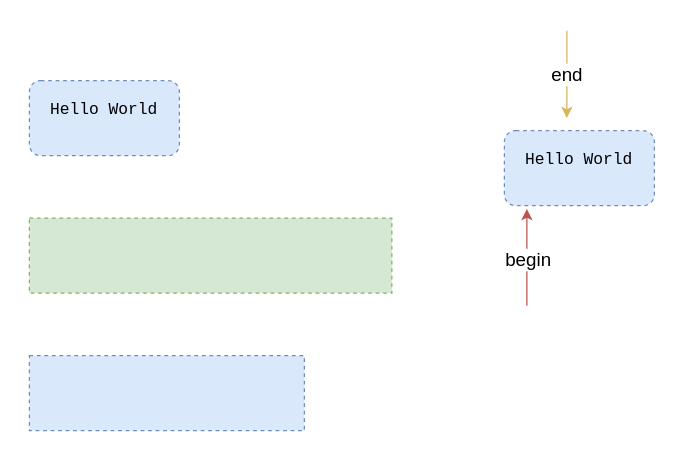
Some shapes in this 676 by 461 pixel diagram are drawn without their labels. The shapes that lost their labels are listed below. From the top down, each one's centre as x and y in pixels, then its label:
(210,255): " fly me to the moon "
(166,392): 输入： s = " the sky is blue " 输出： " blue is sky the "
